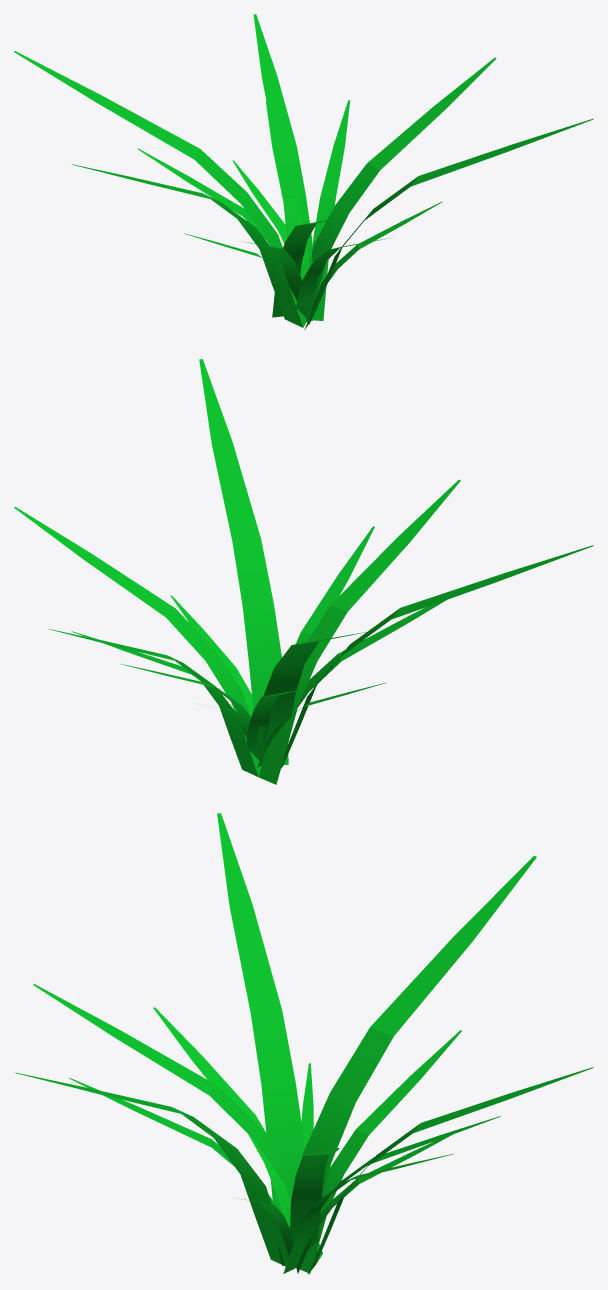
The model's file is asset_herbe.fbx.
3 views of the same model, one above another, from view 1: azimuth 30°, elevation 25°; view 2: azimuth 150°, elevation 25°; view 3: azimuth 270°, elevation 25° (orthographic). The views are drawn at different scales.
Parts seen in each view (by area): view 1: pPlane6, pPlane8, pPlane13, pPlane14, pPlane12, pPlane7, pPlane1, pPlane9, pPlane5, pPlane4, pPlane11, pPlane2 (+1 smaller); view 2: pPlane7, pPlane9, pPlane6, pPlane8, pPlane14, pPlane13, pPlane1, pPlane2, pPlane4, pPlane11; view 3: pPlane14, pPlane8, pPlane9, pPlane7, pPlane4, pPlane6, pPlane2, pPlane13, pPlane12, pPlane1, pPlane10, pPlane3 (+2 smaller).
Part boxes in pixels (left/top/right/bottom): pPlane6: left=306, top=57, right=496, bottom=322; pPlane8: left=14, top=51, right=306, bottom=327; pPlane13: left=253, top=14, right=312, bottom=260; pPlane14: left=72, top=164, right=302, bottom=327; pPlane12: left=310, top=100, right=350, bottom=320; pPlane7: left=304, top=118, right=593, bottom=329; pPlane1: left=292, top=238, right=390, bottom=323; pPlane9: left=272, top=217, right=345, bottom=317; pPlane5: left=266, top=101, right=312, bottom=320; pPlane4: left=138, top=148, right=265, bottom=239; pPlane11: left=309, top=201, right=442, bottom=324; pPlane2: left=241, top=241, right=301, bottom=300; pPlane7: left=199, top=359, right=288, bottom=765; pPlane9: left=259, top=480, right=460, bottom=784; pPlane6: left=14, top=506, right=261, bottom=776; pPlane8: left=255, top=631, right=368, bottom=758; pPlane14: left=281, top=545, right=593, bottom=768; pPlane13: left=49, top=629, right=258, bottom=776; pPlane1: left=296, top=526, right=374, bottom=644; pPlane2: left=298, top=600, right=446, bottom=706; pPlane4: left=244, top=690, right=299, bottom=771; pPlane11: left=170, top=595, right=253, bottom=716; pPlane14: left=217, top=813, right=304, bottom=1213; pPlane8: left=296, top=856, right=536, bottom=1269; pPlane9: left=33, top=984, right=322, bottom=1263; pPlane7: left=15, top=1072, right=293, bottom=1269; pPlane4: left=301, top=1030, right=461, bottom=1273; pPlane6: left=290, top=1148, right=339, bottom=1257; pPlane2: left=153, top=1007, right=290, bottom=1228; pPlane13: left=308, top=1067, right=593, bottom=1274; pPlane12: left=283, top=1154, right=453, bottom=1273; pPlane1: left=69, top=1078, right=273, bottom=1204; pPlane10: left=296, top=1134, right=452, bottom=1273; pPlane3: left=298, top=1063, right=313, bottom=1167.
Size of the model in its own units: 4.22 by 2.08 by 3.69.
